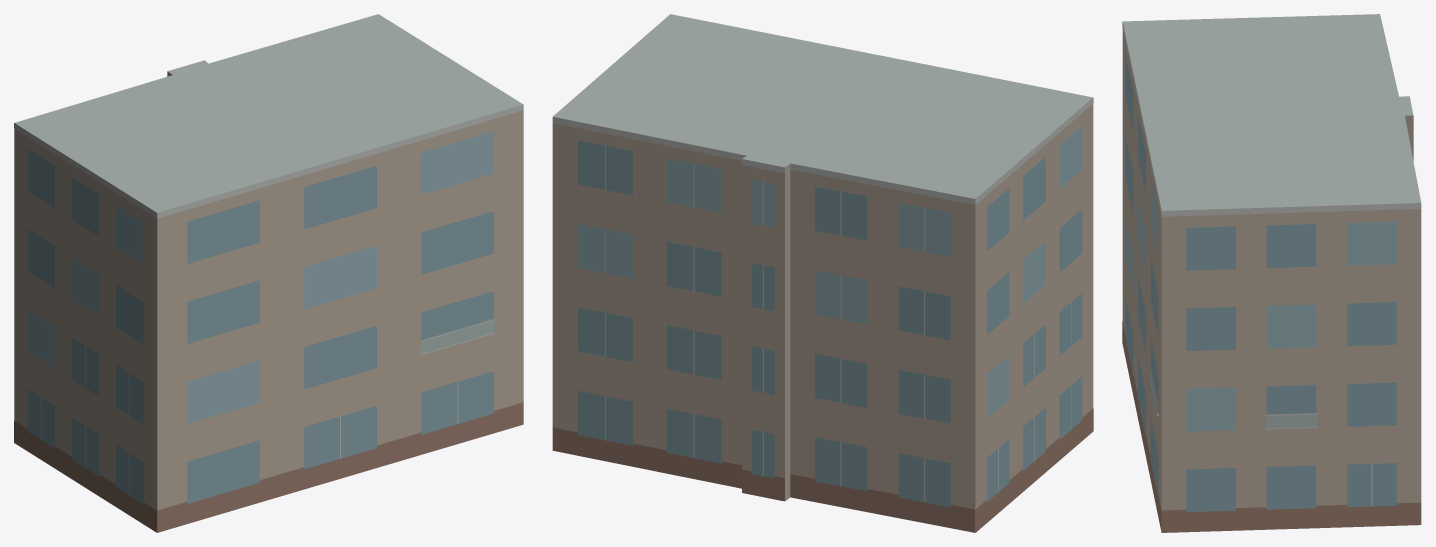
File: survey-upis-32724121.glb
The picture shows the model from 3 angles, left to right: view 1: azimuth 30°, elevation 25°; view 2: azimuth 150°, elevation 25°; view 3: azimuth 270°, elevation 25°; orthographic projection. The views are drawn at different scales.
Visible parts, largest first — view 1: survey-upis-32724121.tmp; view 2: survey-upis-32724121.tmp; view 3: survey-upis-32724121.tmp.
Part boxes in pixels (left/top/right/bottom): survey-upis-32724121.tmp: left=14, top=14, right=523, bottom=532; survey-upis-32724121.tmp: left=552, top=14, right=1093, bottom=532; survey-upis-32724121.tmp: left=1122, top=14, right=1421, bottom=532.
Bounding box in the file's own units: 17.55 × 13.38 × 11.26.
